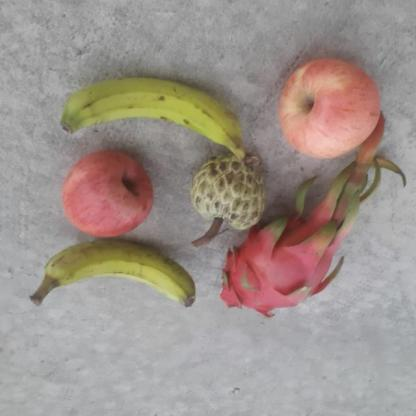annona: (191, 154, 266, 235)
apple: (272, 52, 383, 161), (61, 144, 156, 240)
banana: (55, 77, 255, 167), (28, 237, 200, 308)
pitaya: (218, 209, 344, 323)
